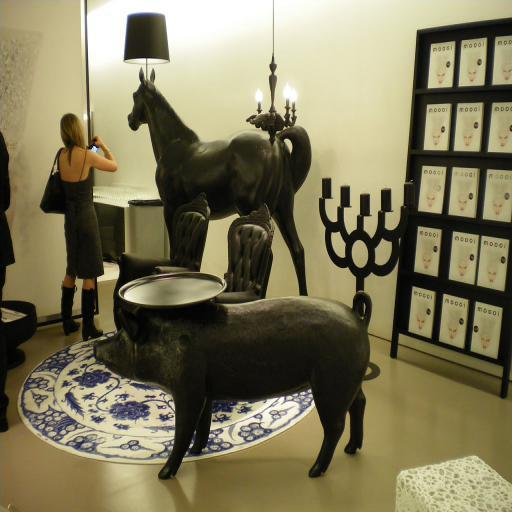horse: (126, 64, 312, 296)
